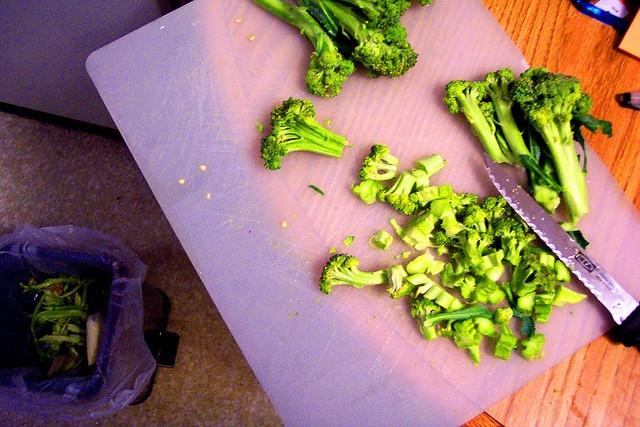broccoli: (509, 66, 590, 227), (252, 0, 356, 98), (307, 0, 419, 79), (261, 97, 346, 170), (481, 68, 538, 165), (443, 80, 509, 163), (510, 244, 570, 297), (318, 253, 388, 296), (490, 217, 536, 268), (342, 0, 413, 31), (446, 229, 496, 270), (423, 302, 493, 328), (378, 171, 418, 216), (442, 249, 476, 299), (410, 296, 444, 341), (358, 143, 398, 181), (465, 274, 506, 306), (350, 178, 390, 206), (407, 248, 446, 276), (438, 185, 478, 210), (477, 248, 505, 283), (482, 196, 506, 234), (409, 186, 449, 208), (552, 285, 588, 308), (409, 208, 439, 235), (441, 214, 476, 237), (462, 205, 489, 233), (416, 153, 446, 178), (492, 334, 517, 360), (522, 334, 546, 360), (430, 198, 457, 220), (516, 292, 536, 317), (469, 333, 483, 365), (423, 283, 443, 300)
